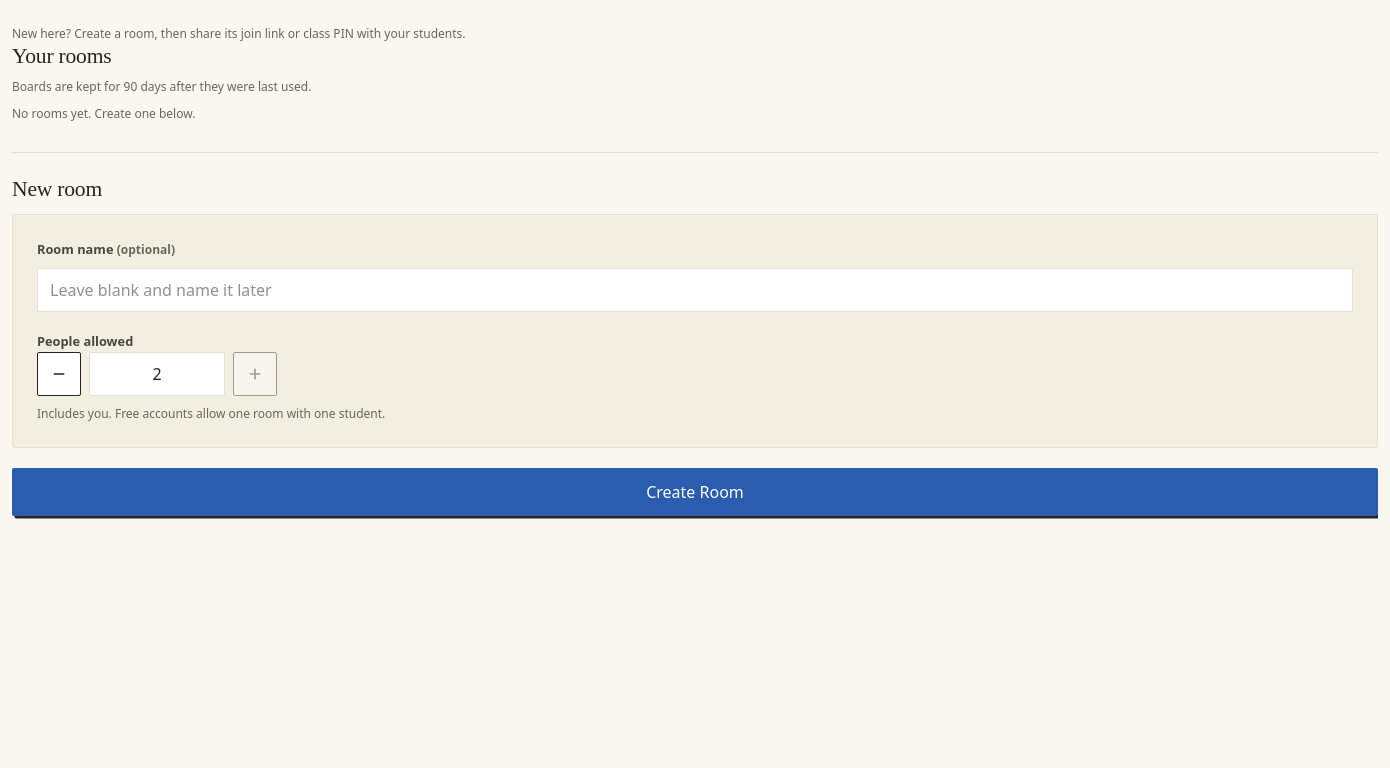
Scenario: TeacherRoomsPanel › tells the teacher how long to wait when create is rate limited
Click the button with test id "whiteboard-create-room-btn" at (695, 492), box [12,468,1378,516]
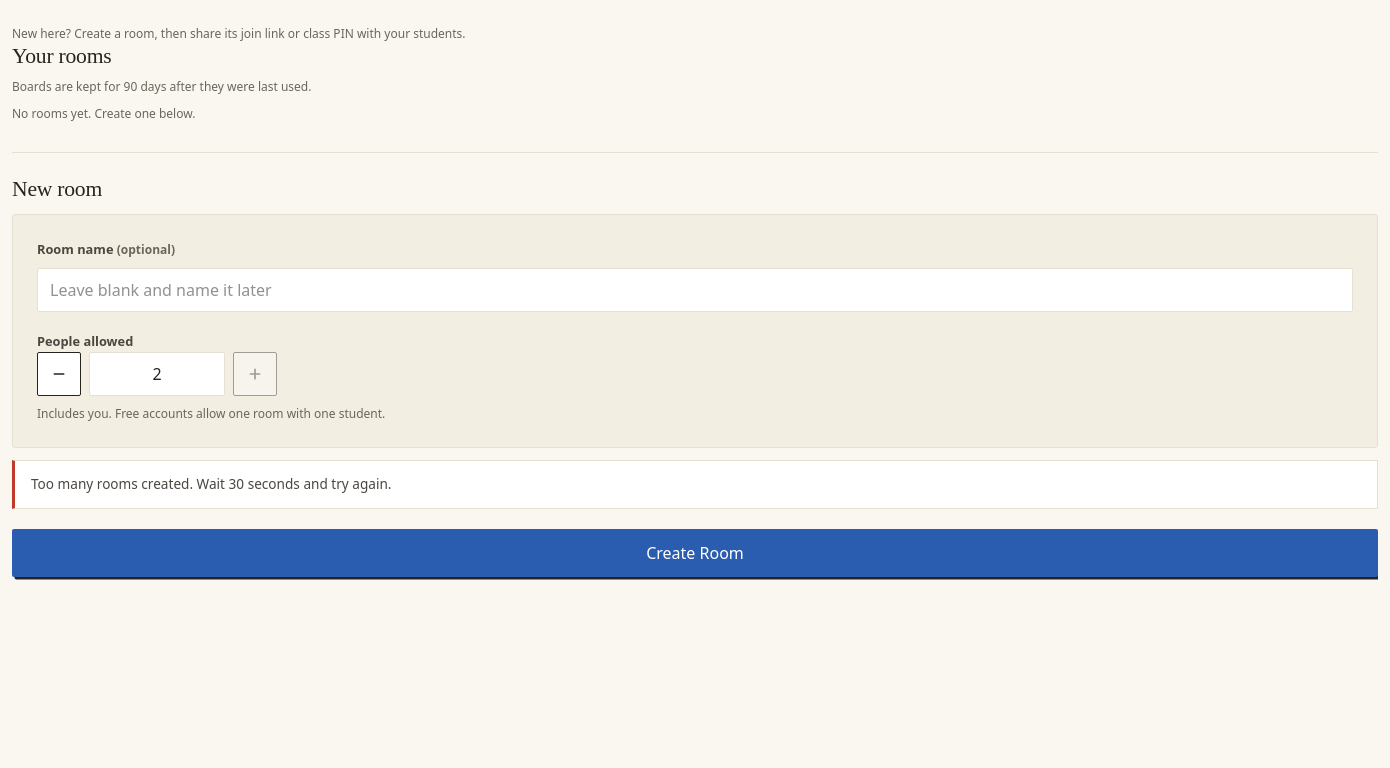
Expected: the message with test id "whiteboard-create-room-error" shows "Wait 30 seconds", [31,474,392,494]
